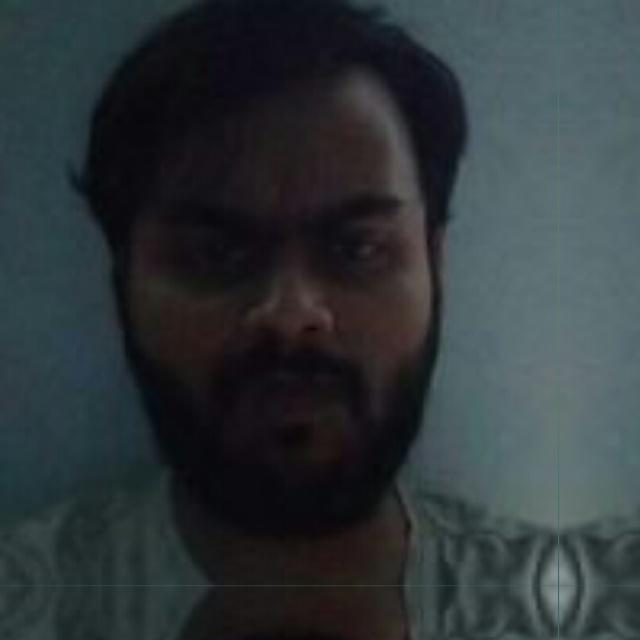Angry: (93, 73, 496, 588)
